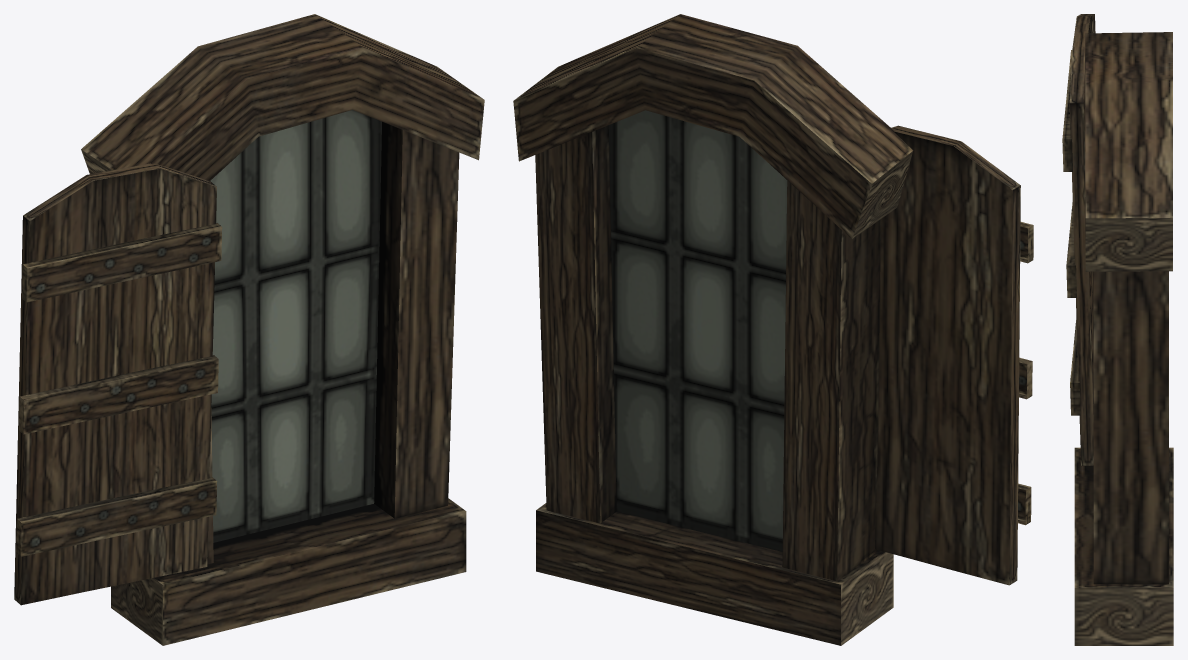
Rendered from Window_05.fbx.
The picture shows the model from 3 angles, left to right: view 1: azimuth 30°, elevation 25°; view 2: azimuth 150°, elevation 25°; view 3: azimuth 270°, elevation 25°; orthographic projection. The views are drawn at different scales.
Visible parts, largest first — view 1: Window_05; view 2: Window_05; view 3: Window_05.
Part boxes in pixels (box(x1,y1,x2,y2)): Window_05: box(14, 14, 484, 645); Window_05: box(513, 14, 1033, 645); Window_05: box(1062, 14, 1173, 645).
Bounding box in the file's own units: 1.99 × 2.22 × 0.4321.
